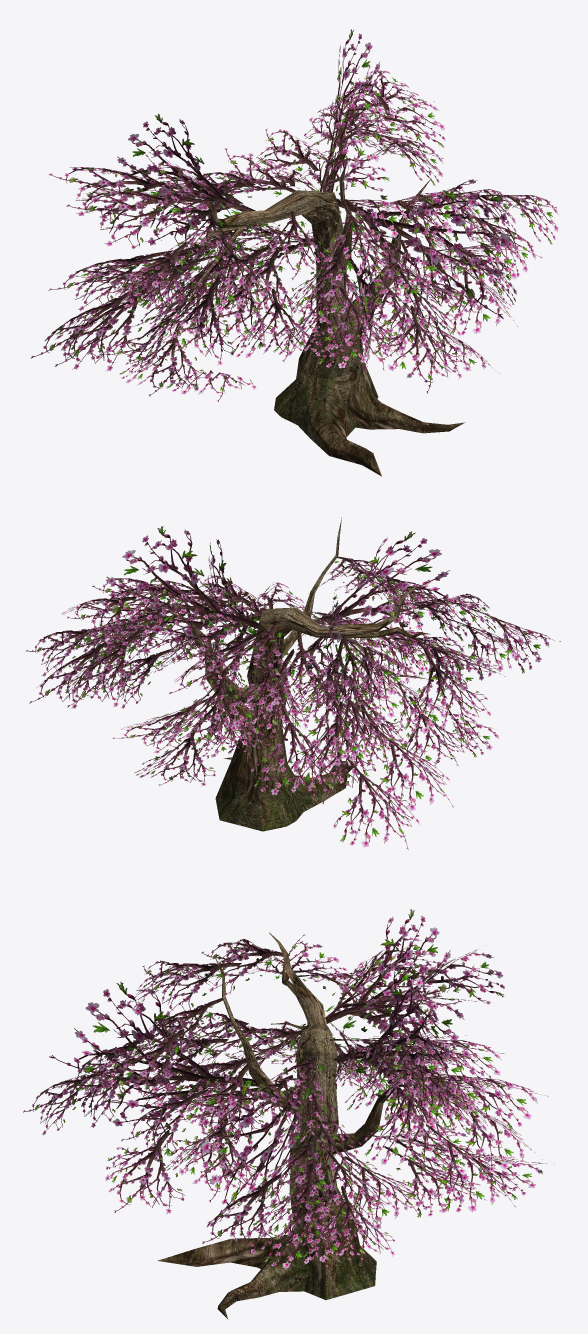
The model's file is GYxinshoucuntaoshu01.FBX.
The picture shows the model from 3 angles, top to bottom: view 1: azimuth 30°, elevation 25°; view 2: azimuth 150°, elevation 25°; view 3: azimuth 270°, elevation 25°; orthographic projection. The views are drawn at different scales.
Parts seen in each view (by area): view 1: ______1_mesh_0_2137, ______1_mesh_1_2138; view 2: ______1_mesh_0_2137, ______1_mesh_1_2138; view 3: ______1_mesh_0_2137, ______1_mesh_1_2138.
Part boxes in pixels (x1,y1,x2,y2): ______1_mesh_0_2137: [30, 29, 558, 402]; ______1_mesh_1_2138: [179, 107, 465, 476]; ______1_mesh_0_2137: [25, 526, 560, 849]; ______1_mesh_1_2138: [166, 517, 430, 831]; ______1_mesh_0_2137: [23, 909, 554, 1273]; ______1_mesh_1_2138: [157, 932, 409, 1318].
Size of the model in its own units: 18.82 by 11.91 by 16.69.
